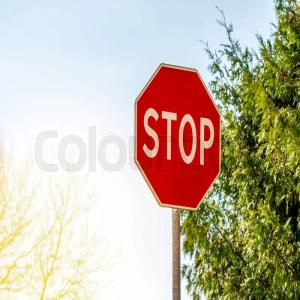STOP: (133, 63, 226, 213)
